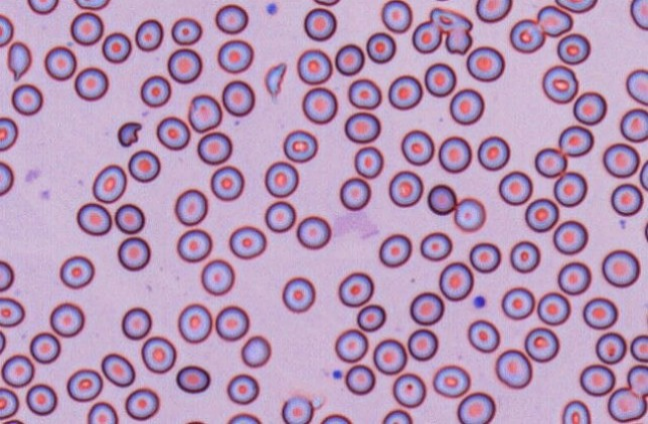PLT: (473, 295, 486, 308), (266, 2, 278, 16), (332, 369, 343, 380)
RBC: (494, 348, 532, 389), (601, 249, 640, 287), (541, 64, 578, 103), (466, 45, 504, 82), (607, 386, 646, 422), (177, 303, 212, 343), (91, 163, 126, 203), (438, 261, 473, 301), (140, 335, 176, 373), (187, 93, 222, 132), (602, 142, 639, 178), (301, 87, 337, 124), (296, 48, 332, 84), (337, 271, 373, 307), (449, 88, 484, 125), (214, 304, 249, 341), (388, 170, 423, 207), (432, 364, 470, 398), (228, 225, 266, 259), (509, 18, 545, 53), (167, 47, 202, 83), (524, 326, 559, 362), (552, 219, 588, 254), (49, 301, 84, 337), (387, 74, 422, 110), (221, 79, 255, 116), (200, 258, 234, 295), (264, 160, 298, 197), (438, 135, 471, 173), (456, 391, 495, 423), (100, 352, 135, 387), (209, 165, 244, 200), (59, 254, 94, 289), (66, 368, 102, 402), (217, 39, 253, 73), (553, 171, 587, 207), (176, 228, 212, 262), (400, 129, 434, 165), (372, 338, 406, 374), (281, 276, 315, 312), (174, 188, 207, 225), (74, 66, 108, 101), (392, 372, 426, 407), (524, 197, 558, 232), (572, 91, 607, 125), (156, 115, 190, 150), (498, 170, 532, 205), (296, 215, 331, 249), (409, 291, 444, 325), (536, 4, 572, 37), (579, 363, 615, 396), (196, 131, 232, 164), (282, 129, 318, 162), (582, 296, 618, 329), (69, 11, 103, 45), (334, 328, 368, 362), (536, 291, 570, 325), (557, 261, 591, 295), (43, 45, 76, 80), (124, 387, 159, 420), (117, 236, 150, 271), (76, 202, 111, 235), (344, 111, 380, 143), (1, 353, 34, 387), (303, 7, 336, 41), (501, 286, 534, 320), (378, 233, 411, 267), (424, 62, 456, 97), (558, 124, 593, 156), (477, 135, 509, 170), (127, 149, 160, 182), (467, 319, 500, 352), (610, 183, 643, 216), (556, 32, 590, 64), (339, 176, 371, 210), (453, 197, 485, 231), (380, 0, 412, 33), (139, 74, 171, 107), (214, 3, 248, 34), (347, 78, 381, 109), (121, 306, 152, 340), (25, 383, 57, 415), (264, 200, 296, 232), (11, 83, 43, 115), (468, 241, 500, 273), (240, 334, 271, 367), (226, 373, 259, 404), (595, 331, 626, 364), (509, 240, 540, 273), (175, 364, 210, 393), (534, 147, 566, 178), (407, 328, 438, 360), (365, 31, 396, 63), (29, 331, 60, 363), (411, 20, 441, 53), (353, 145, 383, 178), (419, 231, 452, 261), (344, 364, 375, 395), (114, 203, 145, 234), (101, 31, 131, 63), (334, 43, 364, 75), (134, 18, 163, 51), (620, 107, 647, 142), (170, 16, 202, 45), (427, 183, 456, 215), (281, 396, 313, 423), (356, 303, 386, 331), (475, 0, 512, 22), (625, 68, 647, 105), (0, 296, 25, 327), (561, 399, 591, 423), (86, 401, 118, 423), (626, 364, 647, 396), (0, 116, 18, 151), (0, 387, 19, 419), (554, 0, 597, 13), (630, 0, 648, 30), (0, 160, 14, 196), (630, 334, 647, 362), (381, 408, 412, 423), (26, 0, 59, 14), (0, 259, 14, 291), (0, 13, 13, 47), (226, 412, 261, 423), (73, 0, 110, 10), (319, 413, 352, 423), (639, 158, 647, 191), (311, 0, 340, 6), (0, 329, 6, 354), (1, 418, 24, 423), (184, 419, 206, 424), (644, 218, 648, 242), (432, 0, 457, 2)
Schistocyte: (430, 8, 473, 34), (8, 41, 32, 82), (265, 63, 287, 103), (116, 120, 143, 149), (445, 30, 473, 57)
